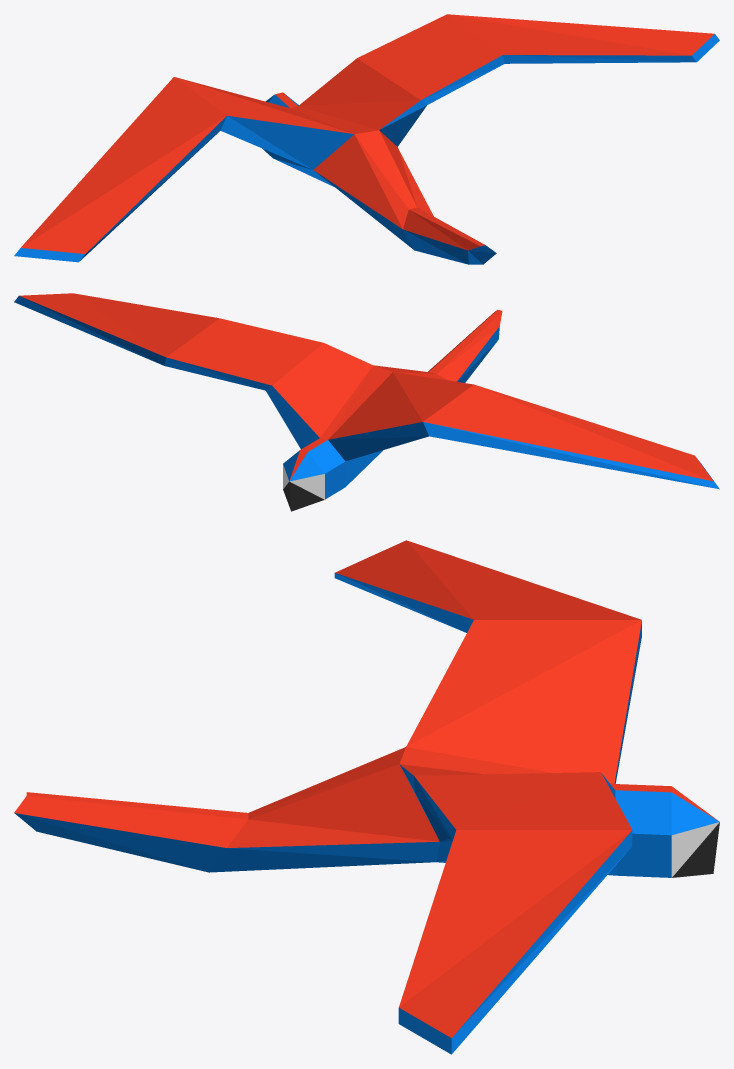
File: guaca_blue.fbx
3 renders of one model, top to bottom at view 1: azimuth 30°, elevation 25°; view 2: azimuth 150°, elevation 25°; view 3: azimuth 270°, elevation 25°, orthographic. The views are drawn at different scales.
Visible parts, largest first — view 1: wings, body; view 2: wings, body, peak, face; view 3: wings, body, peak, face.
Part boxes in pixels (box(x1,y1,x2,y2)): wings: box(21, 14, 714, 253); body: box(14, 34, 719, 264); wings: box(19, 293, 713, 481); body: box(14, 296, 719, 499); peak: box(283, 481, 324, 511); face: box(283, 464, 324, 499); wings: box(14, 540, 717, 1037); body: box(14, 573, 719, 1054); peak: box(672, 822, 719, 877); face: box(671, 822, 719, 877).
Bounding box in the file's own units: 41.45 × 5.77 × 22.26.
